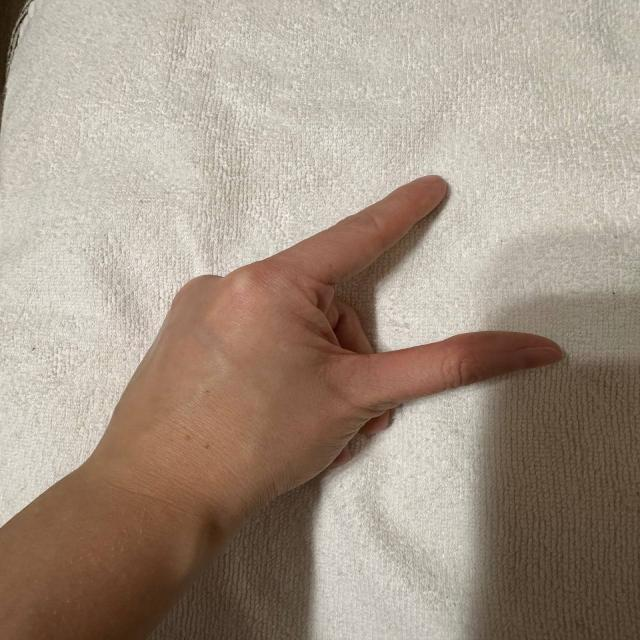-: (90, 191, 595, 480)
